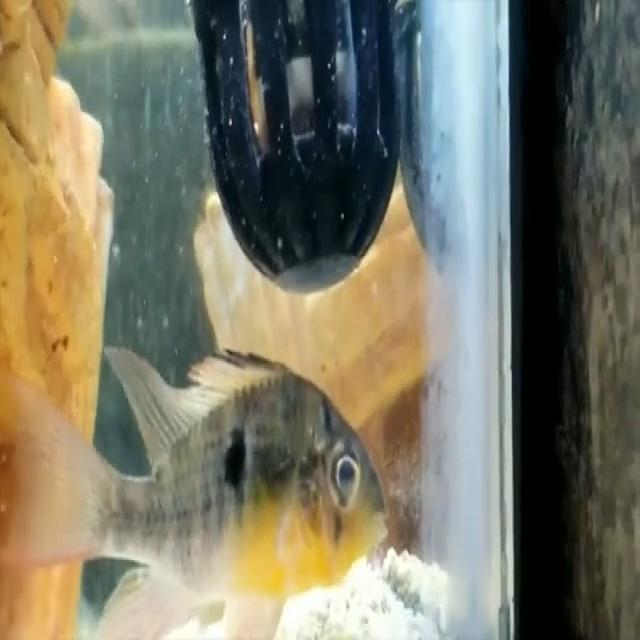fish: (21, 343, 396, 640)
